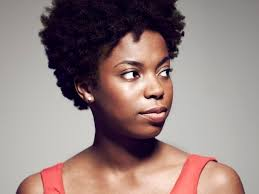black_female: (39, 1, 198, 140)
